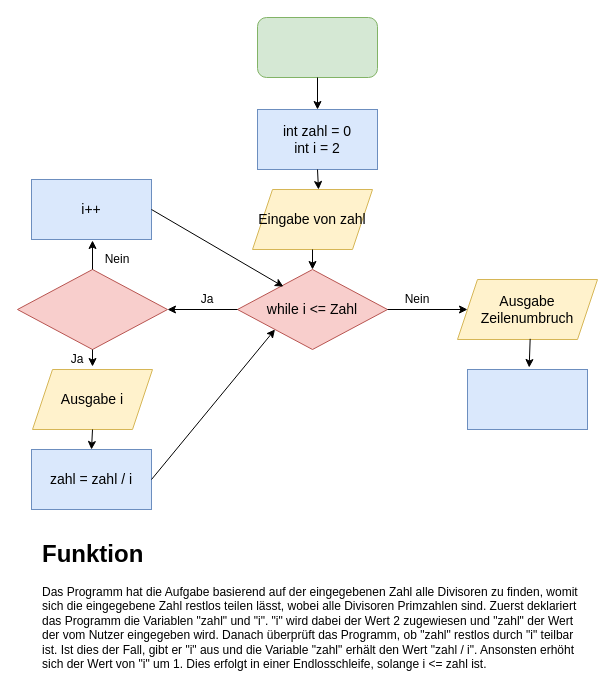
This 615x697 diagram has some shape labels left out. The shapes that lost their labels are listed below. From the top down, each one's centre as x and y in pixels, then its label:
the point at 317,47: Start
the point at 92,309: zahl%i = 0 ?
the point at 527,399: return 0
